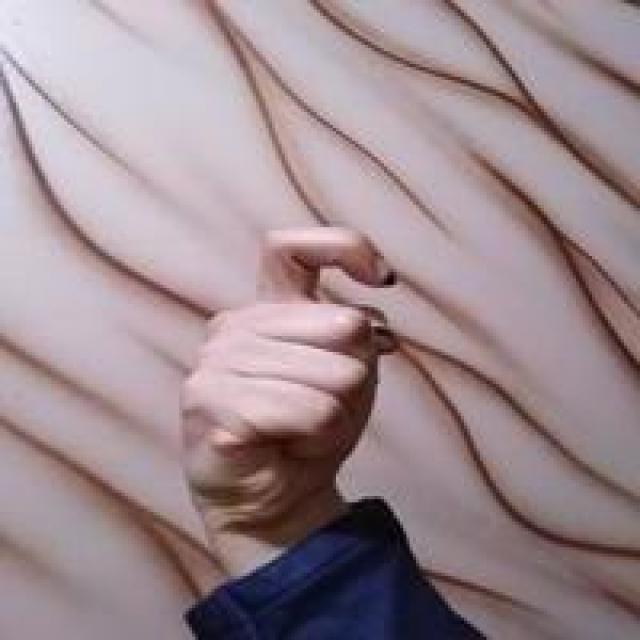X: (184, 216, 402, 555)
